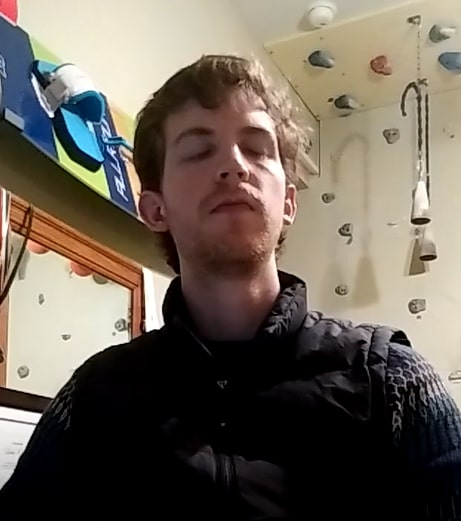Sleeping: (174, 128, 274, 170)
